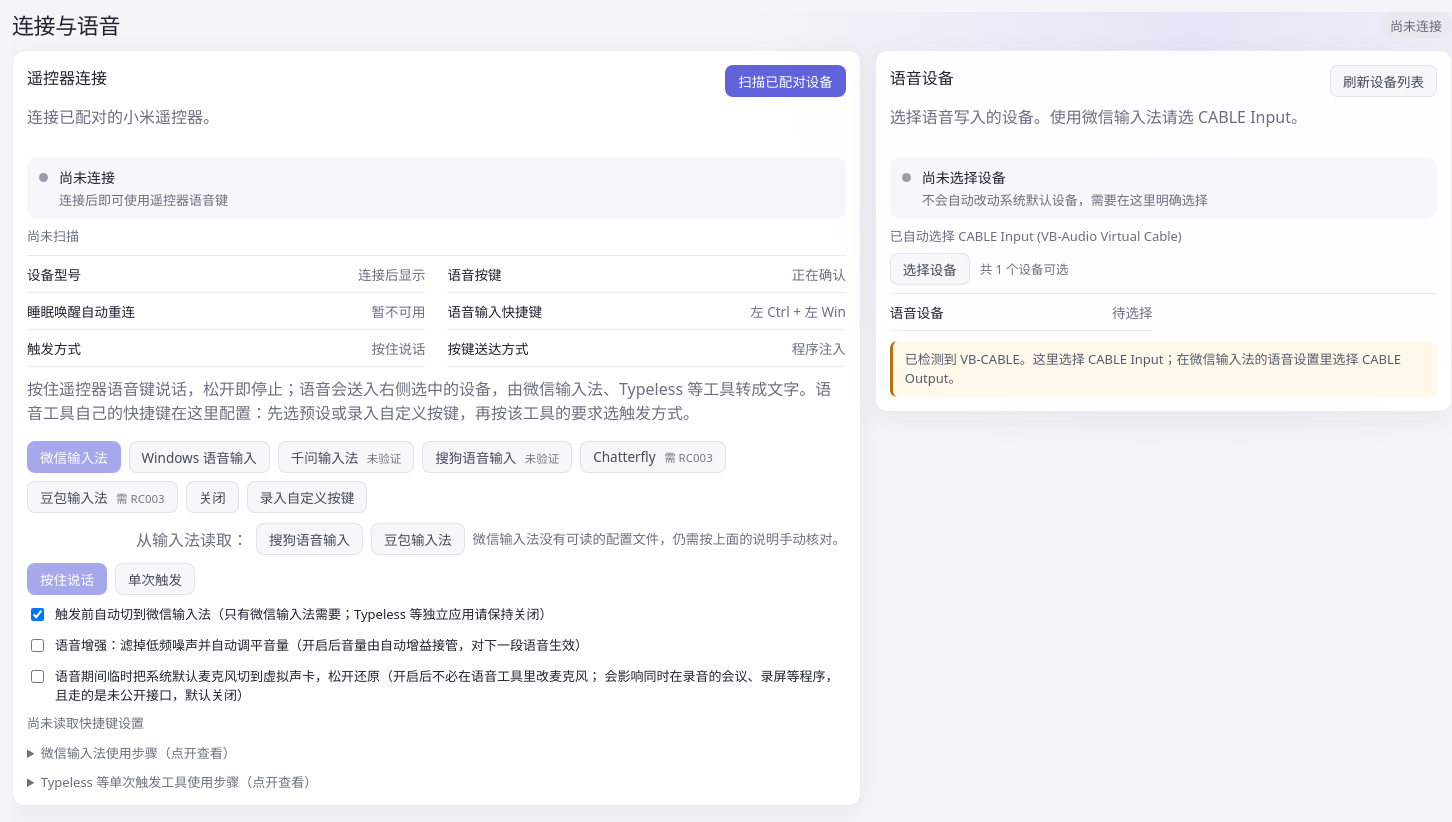
语音输入快捷键设置 › 从输入法读取失败：如实显示原因，不改动现有设置
Click the button "搜狗语音输入": coordinates (310, 539) [256, 523, 363, 555]
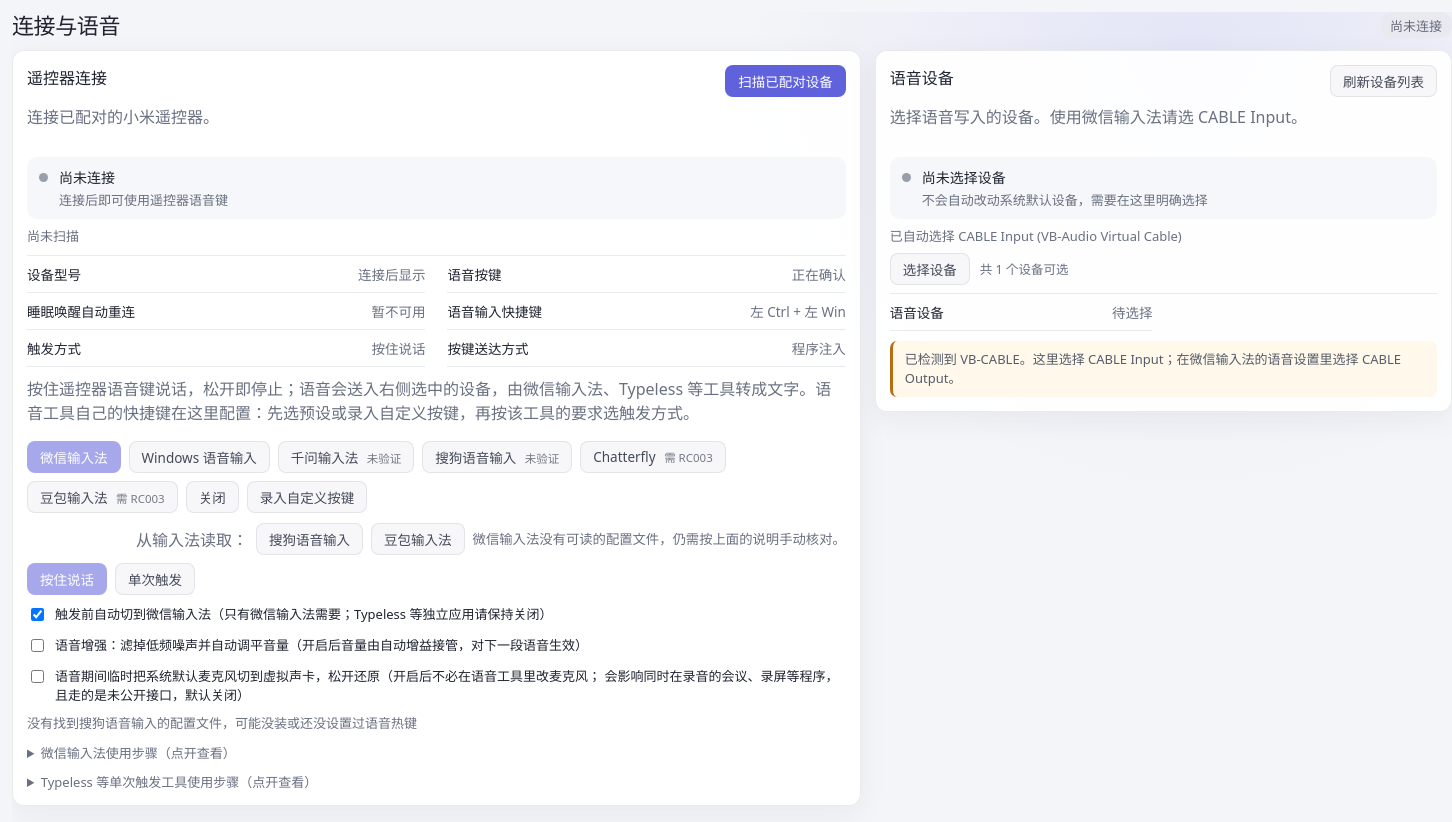
Expected: the text "没有找到搜狗语音输入的配置文件" is shown, [27, 714, 417, 732]
